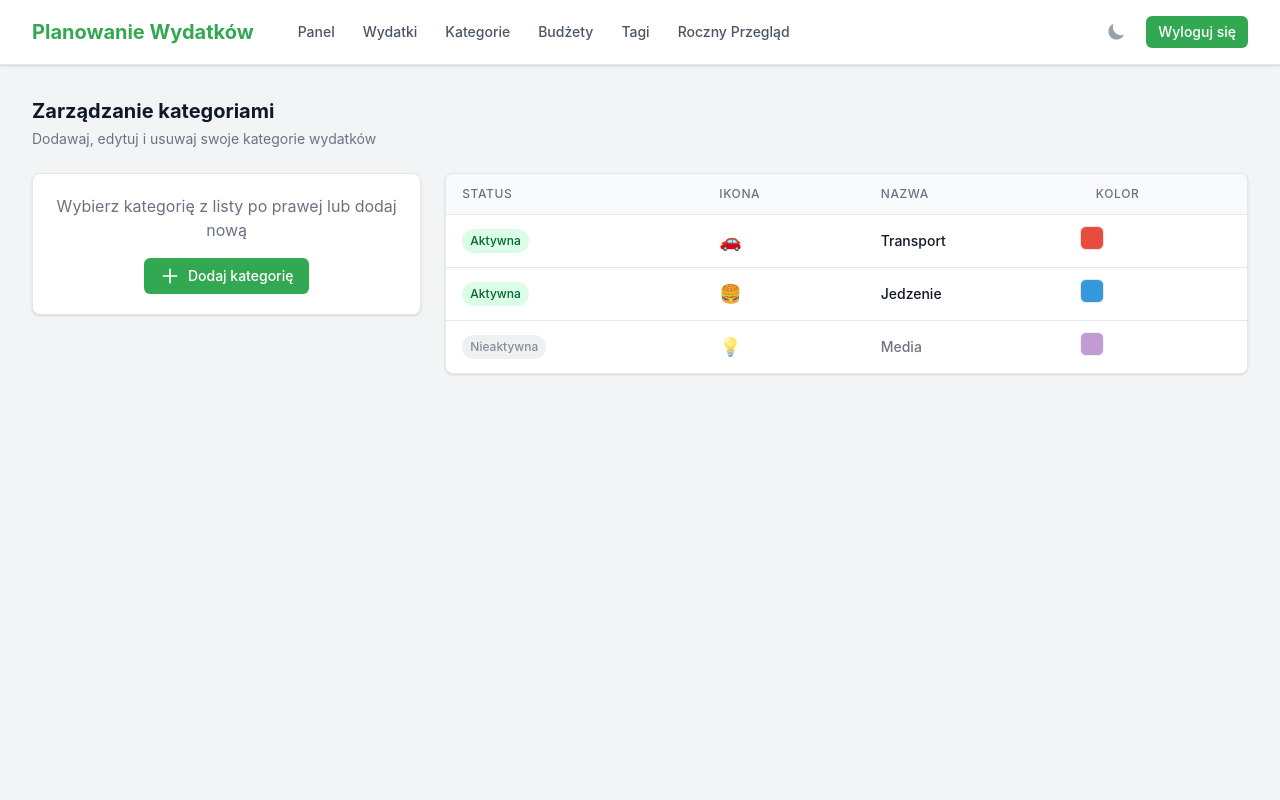
Test case: edit panel › renames through the panel and saves the payload
Expected: the text "Transport" is shown, [865,214,1080,268]
Step 1. Click the text "Jedzenie" → {"x": 911, "y": 294}, box [865,268,1080,320]
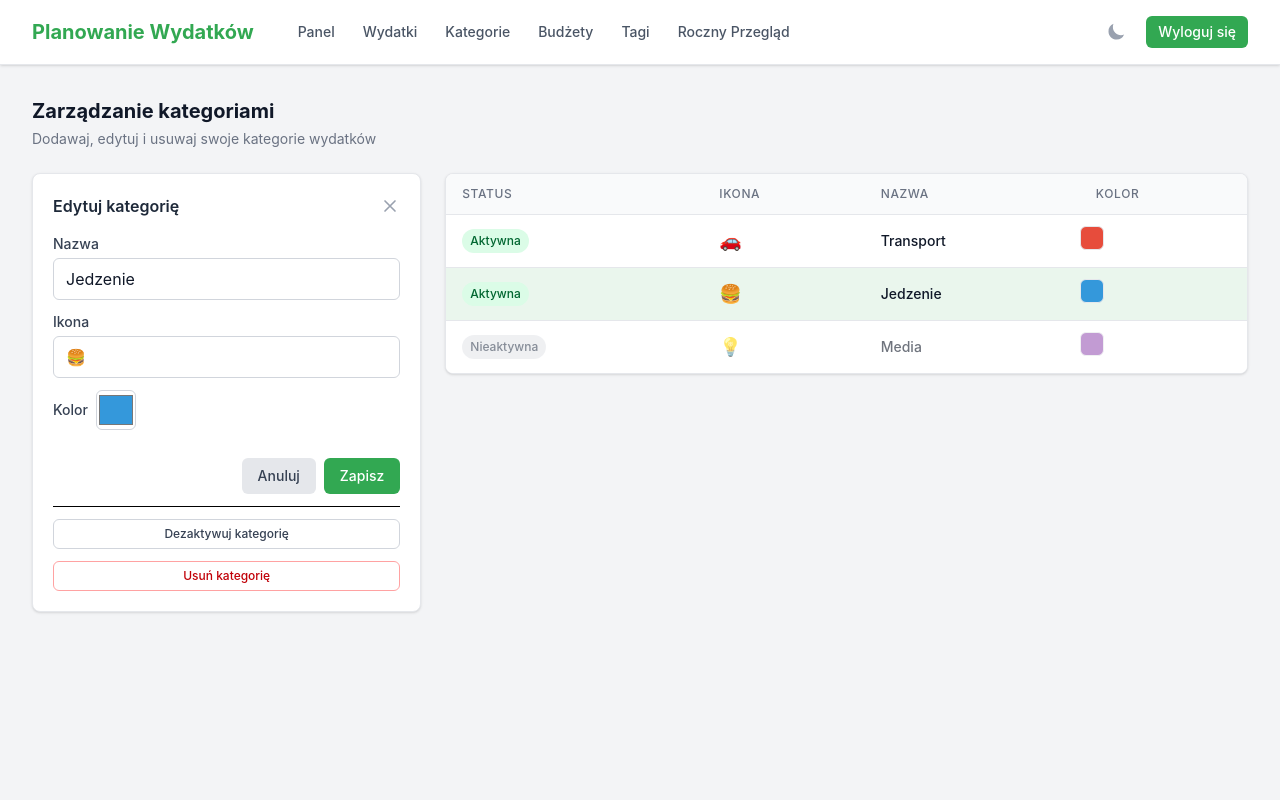
Expected: the heading "Edytuj kategorię" is shown, [53,194,400,218]
Step 2. Replace the text in the field labelled "Nazwa" with "Zakupy spożywcze" → {"x": 227, "y": 279}, box [53,258,400,300]
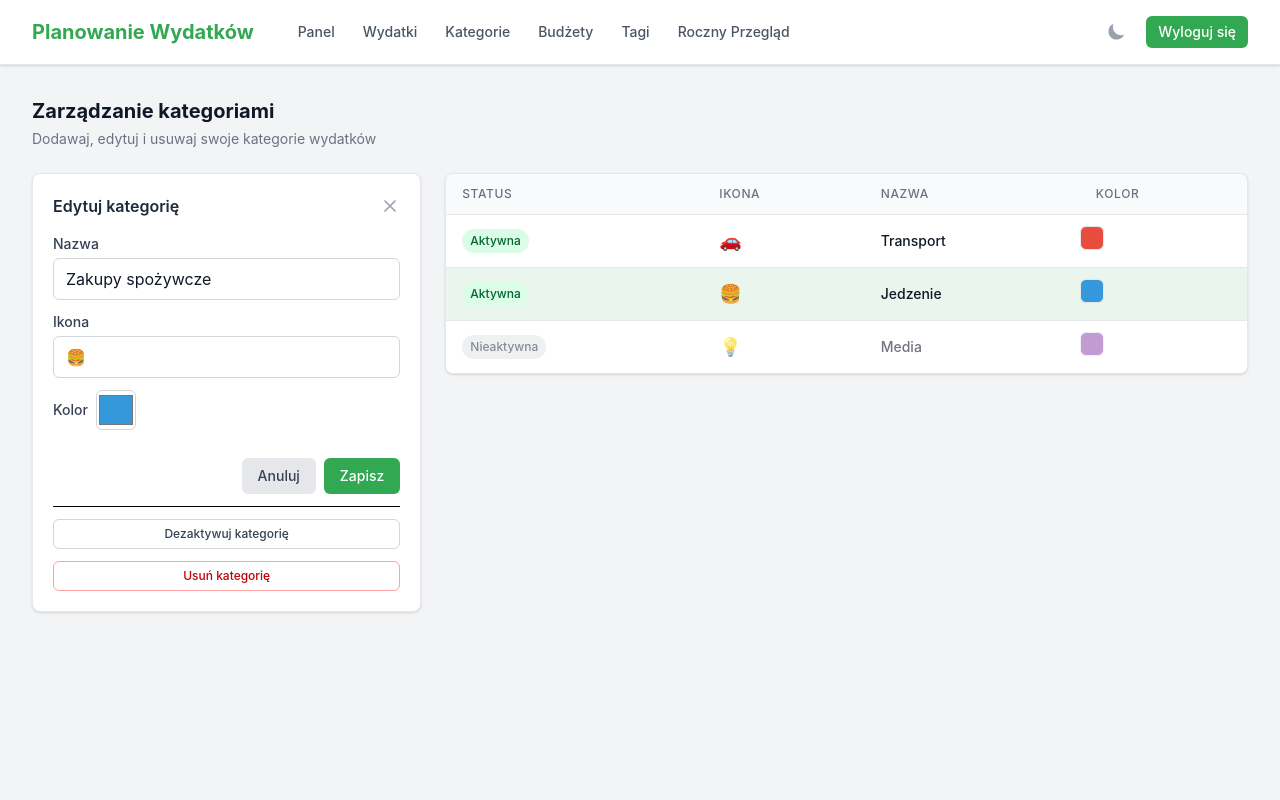
Step 3. Click the button "Zapisz" → {"x": 362, "y": 476}, box [324,458,400,494]
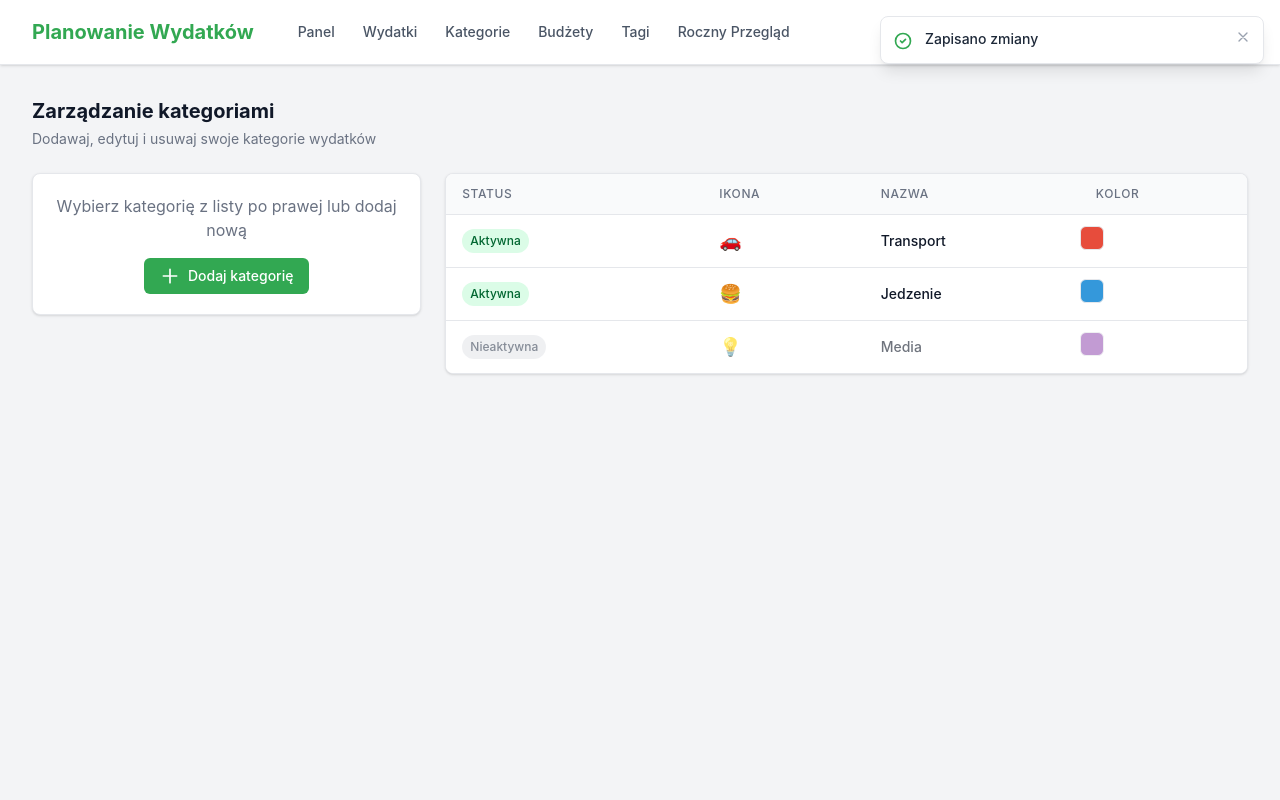
Expected: the text "Zapisano zmiany" is shown, [925,30,1038,47]
